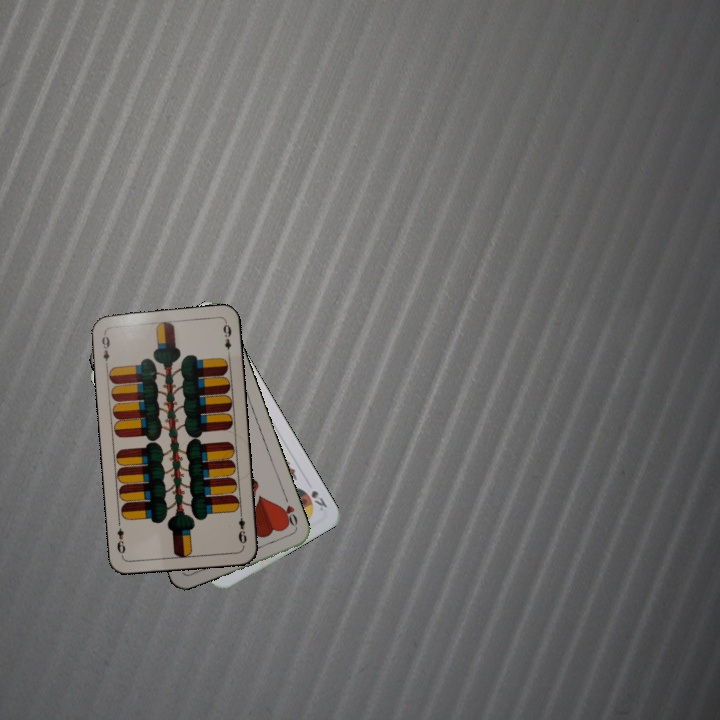E9: (234, 507, 249, 548), (98, 329, 112, 370)
HO: (276, 492, 300, 532)
SK: (307, 486, 330, 514)
